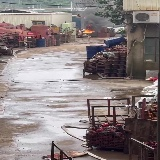fire: (83, 30, 94, 33)
